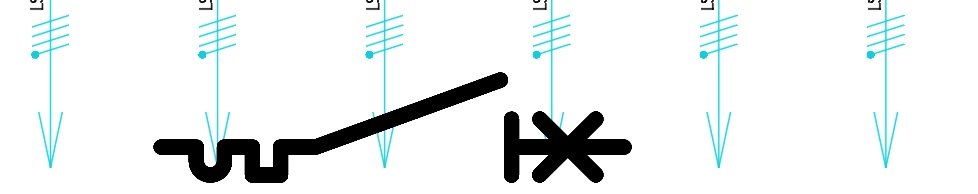interruptor_termomagnetico: (149, 68, 636, 187)
